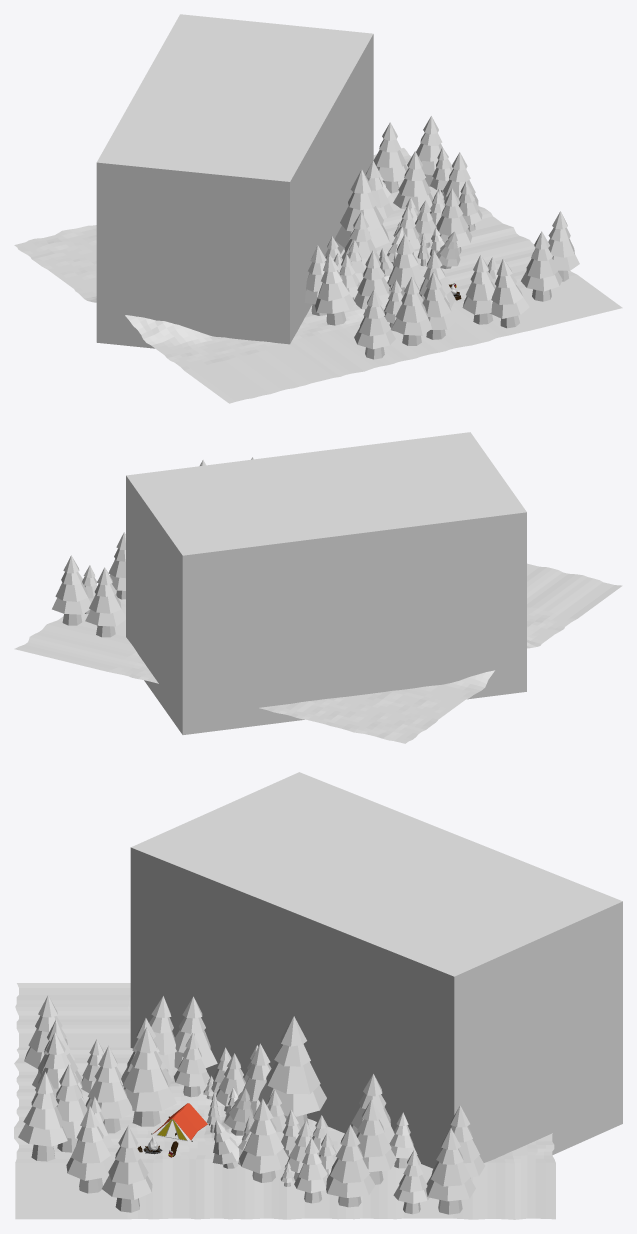
3 views of the same model, one above another, from view 1: azimuth 30°, elevation 25°; view 2: azimuth 150°, elevation 25°; view 3: azimuth 270°, elevation 25° (orthographic). The views are drawn at different scales.
Parts seen in each view (by area): view 1: Fog, Plane, Tree.021, Tree.004, Tree.041, Tree.047, Tree.050, Tree.043, Tree.045, Tree.030, Tree.048, Tree.023 (+14 smaller); view 2: Fog, Plane, Tree.030, Tree.033, Tree.031; view 3: Fog, Plane, Tree.021, Tree.046, Tree.033, Tree.055, Tree.043, Tree.041, Tree.031, Tree.035, Tree.042, Tree.023 (+19 smaller).
Boxes of the visible parts, x1,y1,x2,y2 form: Fog: (96, 14, 373, 348); Plane: (14, 148, 622, 403); Tree.021: (335, 169, 389, 248); Tree.004: (315, 254, 355, 325); Tree.041: (521, 231, 562, 301); Tree.047: (354, 289, 395, 359); Tree.050: (391, 277, 431, 345); Tree.043: (489, 258, 529, 328); Tree.045: (462, 254, 495, 324); Tree.030: (373, 122, 407, 193); Tree.048: (422, 271, 456, 339); Tree.023: (393, 151, 433, 215); Fog: (126, 432, 526, 734); Plane: (14, 563, 622, 743); Tree.030: (85, 567, 125, 637); Tree.033: (52, 555, 90, 625); Tree.031: (108, 532, 125, 599); Fog: (130, 772, 622, 1168); Plane: (14, 983, 555, 1219); Tree.021: (258, 1016, 326, 1128); Tree.046: (122, 1027, 176, 1126); Tree.033: (426, 1128, 475, 1214); Tree.055: (102, 1126, 152, 1212); Tree.043: (18, 1072, 67, 1161); Tree.041: (66, 1106, 113, 1193); Tree.031: (326, 1124, 375, 1207); Tree.035: (239, 1098, 288, 1182); Tree.042: (85, 1046, 134, 1133); Tree.023: (356, 1099, 396, 1184).
Size of the model in its own units: 5705 by 2378 by 5899.
Materials: 21 (7 with a texture image).
